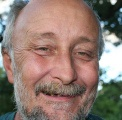male: (12, 16, 98, 113)
